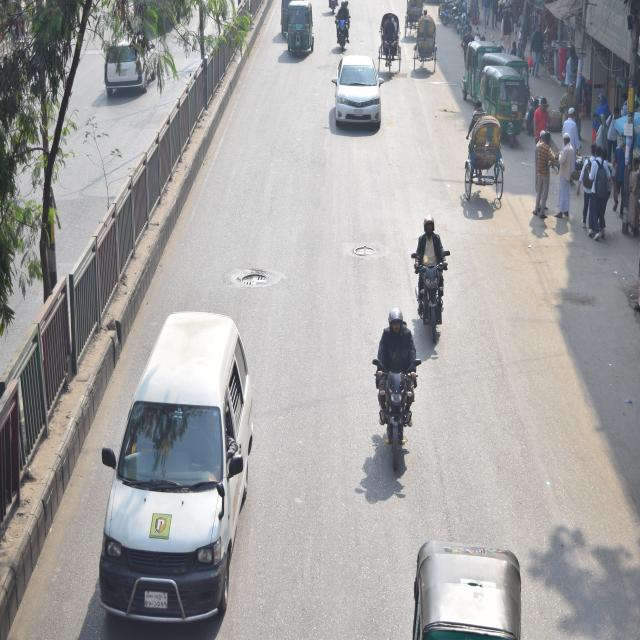car: (99, 299, 259, 622), (324, 53, 383, 140), (103, 33, 165, 95)
motorbike: (367, 345, 417, 490), (416, 228, 459, 351), (332, 15, 354, 58)
